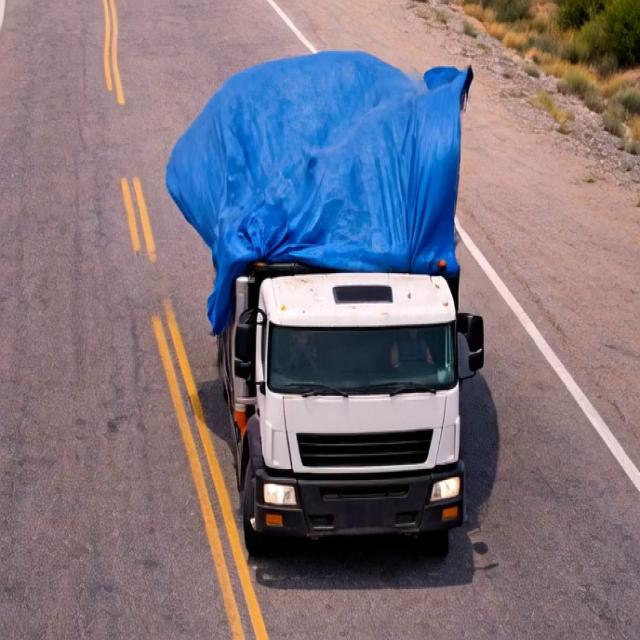trailer: (198, 62, 471, 272)
truck: (182, 28, 486, 548)
